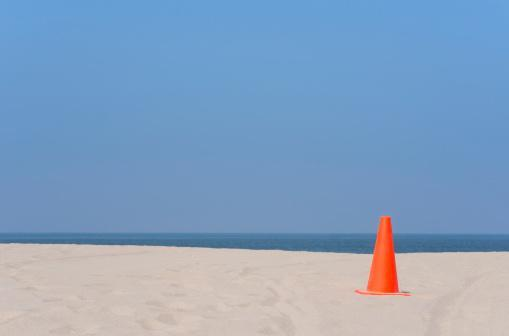Cone: (354, 214, 411, 299)
